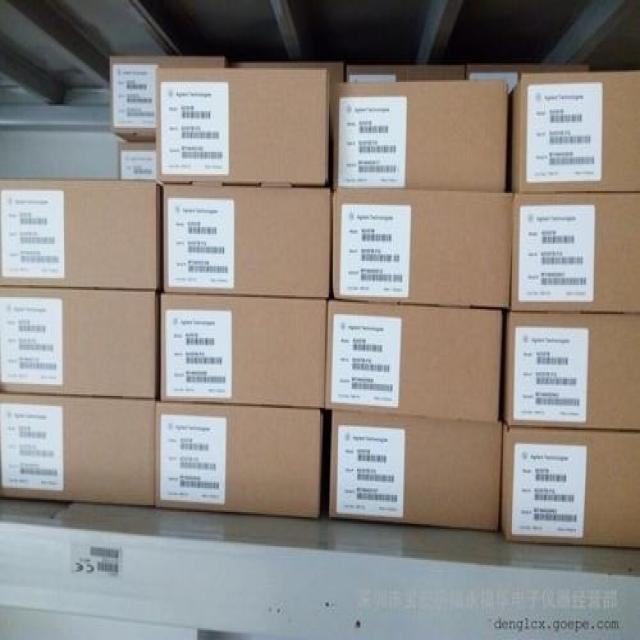Carton: (0, 79, 512, 529), (156, 67, 326, 184), (164, 186, 329, 297), (0, 177, 155, 288), (0, 288, 156, 398), (504, 428, 637, 544), (509, 314, 639, 430), (513, 191, 637, 305), (516, 73, 637, 188)
